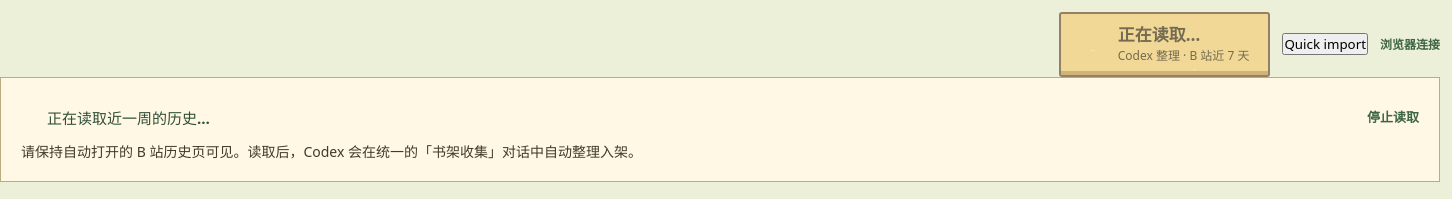
Scenario: one-click Codex reading › resumes an active run without creating another and allows stopping
Expected: the button "正在读取… Codex 整理 · B 站近 7 天" is disabled, [1059,12,1270,77]
Click the button "停止读取": x=1393, y=118 [1367,96,1419,140]
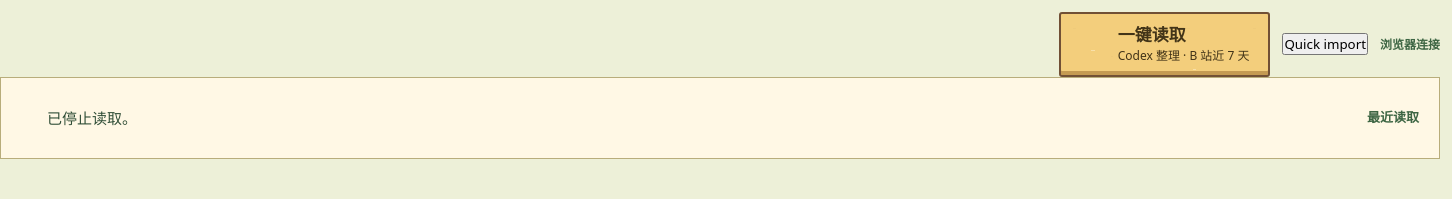
Result: the text "已停止读取" is shown at [47,108,137,128]
